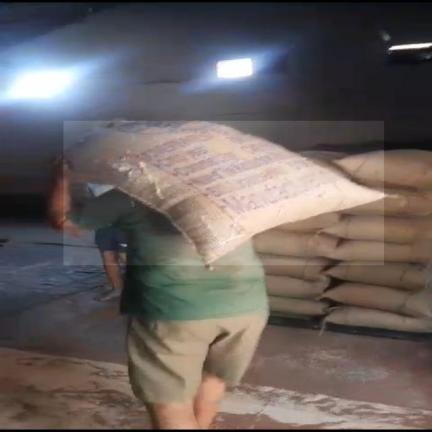Zone-Counting: (49, 121, 383, 429)
